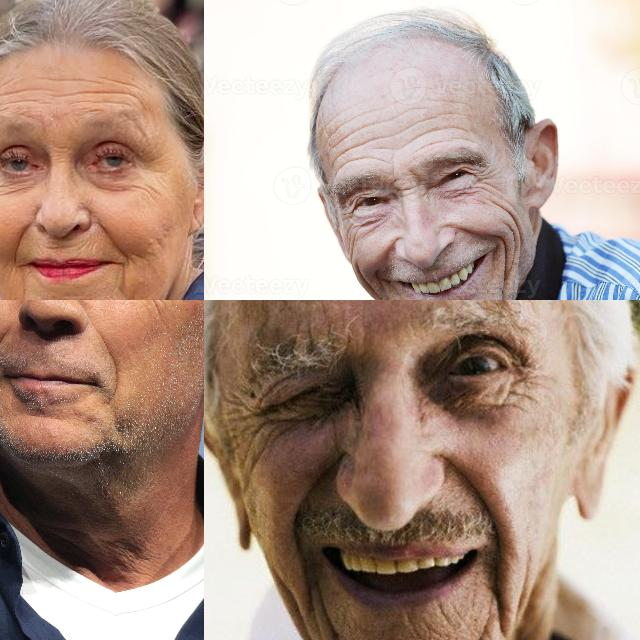chin: (48, 289, 86, 300)
crows_feet: (504, 358, 544, 412), (233, 398, 273, 444), (474, 164, 498, 196), (338, 202, 357, 232)
forehead: (75, 74, 143, 110), (400, 108, 440, 146), (0, 81, 49, 110), (328, 124, 359, 168), (364, 116, 388, 162), (446, 118, 472, 144)
frown_line: (396, 176, 418, 200)
gummy_smile: (446, 457, 498, 518), (91, 341, 131, 404), (294, 460, 336, 504), (99, 216, 129, 258), (8, 218, 30, 268), (0, 326, 12, 386), (454, 220, 488, 240)
masseter: (496, 200, 526, 246), (354, 264, 381, 298), (496, 250, 514, 298), (133, 175, 159, 203)
sad_smile: (472, 564, 516, 624), (298, 580, 336, 638), (115, 262, 133, 300), (15, 278, 32, 300)
